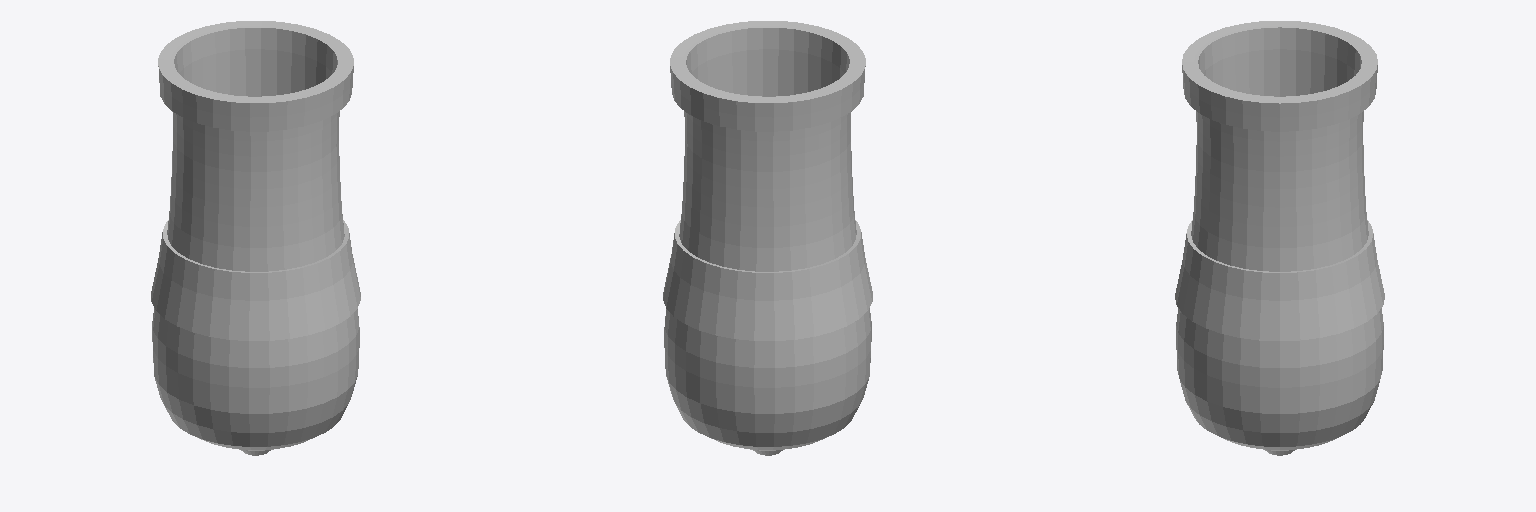
File: cannon_14.obj
3 views of the same model, side by side, from view 1: azimuth 30°, elevation 25°; view 2: azimuth 150°, elevation 25°; view 3: azimuth 270°, elevation 25° (orthographic).
Parts seen in each view (by area): view 1: 炮管.003_柱体.009; view 2: 炮管.003_柱体.009; view 3: 炮管.003_柱体.009.
Part boxes in pixels (left/top/right/bottom): 炮管.003_柱体.009: left=151, top=21, right=360, bottom=455; 炮管.003_柱体.009: left=663, top=21, right=872, bottom=455; 炮管.003_柱体.009: left=1175, top=21, right=1384, bottom=455.
Bounding box in the file's own units: 0.8576 × 1.74 × 0.8576.